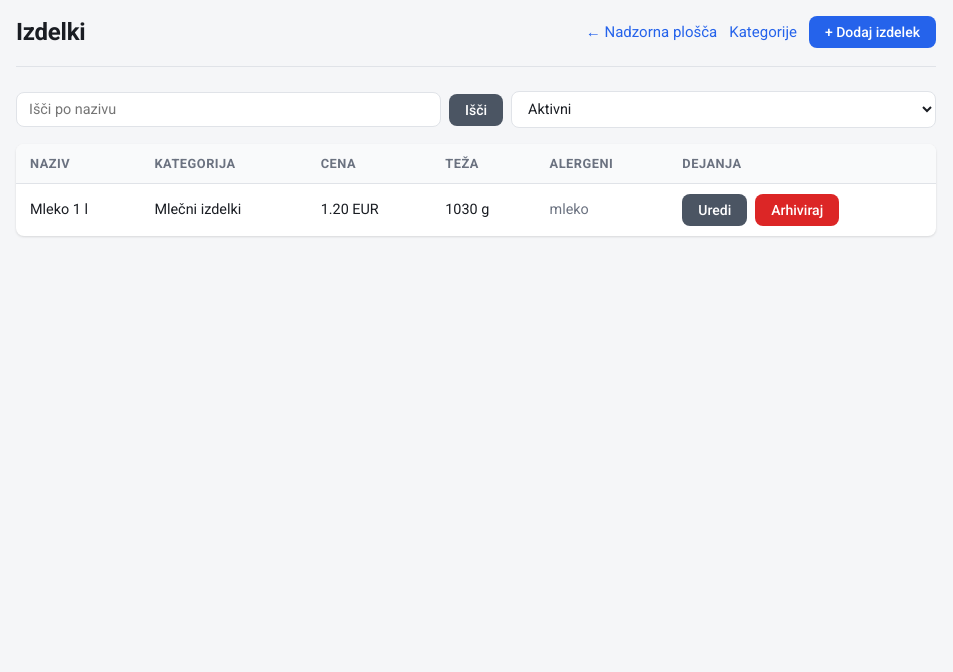
Test case: ProductsPage › shows PRODUCT_ARCHIVED in Slovenian when editing
What coordinates should you click on to do the following:
click the button "Uredi"
I would click on:
 (715, 210)
Its box is left=682, top=194, right=747, bottom=226.
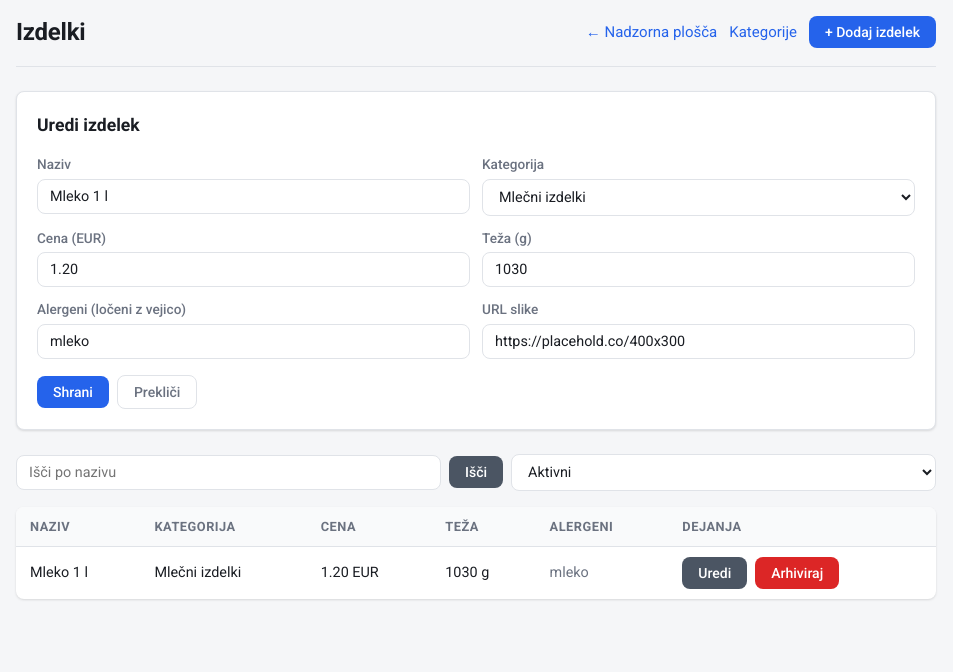
expect the dropdown labelled "Kategorija" shows "Mlečni izdelki": met, box left=482, top=179, right=915, bottom=216
What coordinates should you click on to do the following:
click the button "Shrani"
I would click on:
 (73, 392)
Its box is left=37, top=376, right=109, bottom=408.
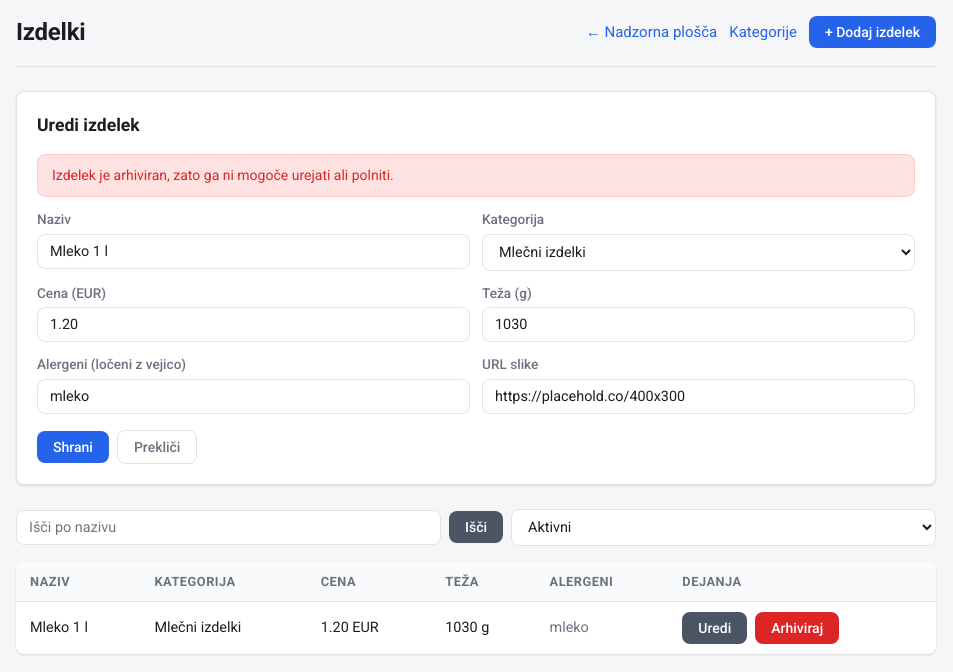
expect the text "Izdelek je arhiviran, zato ga ni mogoče urejati ali polniti." is shown: met, box left=37, top=154, right=915, bottom=197
